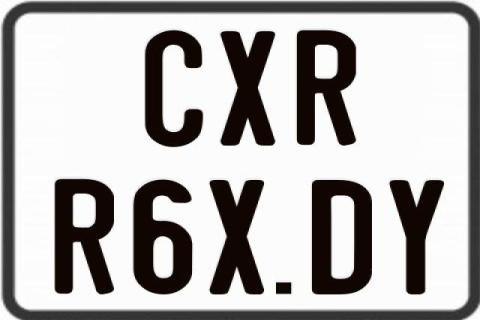0: (130, 178, 189, 298)
C: (146, 30, 208, 152)
D: (312, 180, 375, 295)
R: (295, 29, 357, 149), (53, 178, 113, 294)
X: (218, 30, 277, 148), (210, 179, 266, 296)
Y: (389, 180, 449, 298)
